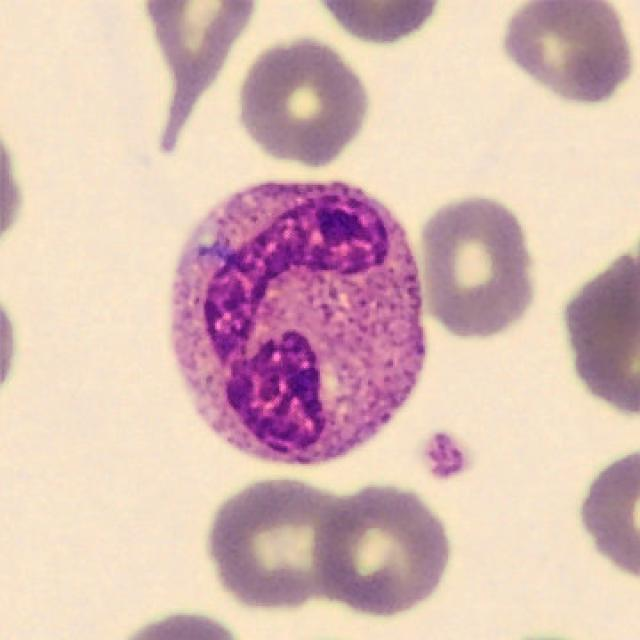Neutrofilo segmentado: (169, 181, 427, 468)
